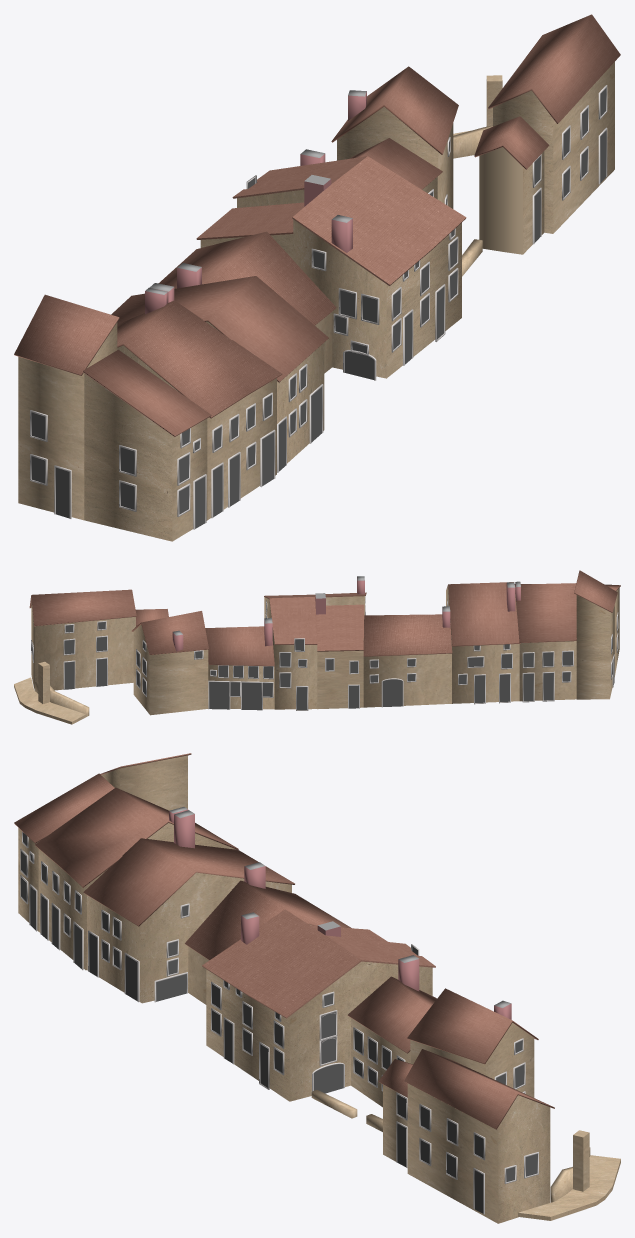
Rendered from ilot25combine.fbx.
3 views of the same model, one above another, from view 1: azimuth 30°, elevation 25°; view 2: azimuth 150°, elevation 25°; view 3: azimuth 270°, elevation 25° (orthographic). The views are drawn at different scales.
Parts seen in each view (by area): view 1: _ILOT25BAT52, _ILOT25BAT32, _ILOT25BAT8, _ILOT25BAT92, _ILOT25BAT26, _ILOT25BAT7, _ILOT25BAT110, _ILOT25BAT132, _ILOT25BAT62, _ILOT25BAT142, _ILOT25BAT102, MUR1; view 2: _ILOT25BAT92, _ILOT25BAT7, _ILOT25BAT62, _ILOT25BAT110, _ILOT25BAT8, _ILOT25BAT52, _ILOT25BAT102, _ILOT25BAT142, _ILOT25BAT26, MUR1, _ILOT25BAT32, _ILOT25BAT132; view 3: _ILOT25BAT52, _ILOT25BAT7, _ILOT25BAT92, _ILOT25BAT8, _ILOT25BAT110, _ILOT25BAT102, _ILOT25BAT62, _ILOT25BAT32, MUR1, _ILOT25BAT26, _ILOT25BAT132, _ILOT25BAT142.
Part boxes in pixels (box(x1,y1,x2,y2)): _ILOT25BAT52: box(232, 156, 466, 380); _ILOT25BAT32: box(83, 349, 211, 541); _ILOT25BAT8: box(117, 288, 282, 520); _ILOT25BAT92: box(488, 14, 620, 233); _ILOT25BAT26: box(14, 294, 119, 520); _ILOT25BAT7: box(111, 276, 328, 472); _ILOT25BAT110: box(331, 66, 458, 208); _ILOT25BAT132: box(474, 116, 549, 254); _ILOT25BAT62: box(158, 231, 336, 373); _ILOT25BAT142: box(196, 175, 331, 259); _ILOT25BAT102: box(300, 138, 442, 199); MUR1: box(453, 75, 502, 158); _ILOT25BAT92: box(29, 589, 136, 690); _ILOT25BAT7: box(446, 582, 520, 704); _ILOT25BAT62: box(363, 606, 452, 707); _ILOT25BAT110: box(131, 611, 208, 715); _ILOT25BAT8: box(514, 581, 576, 702); _ILOT25BAT52: box(264, 576, 366, 710); _ILOT25BAT102: box(205, 618, 274, 710); _ILOT25BAT142: box(315, 593, 364, 709); _ILOT25BAT26: box(574, 570, 617, 699); MUR1: box(14, 661, 89, 724); _ILOT25BAT32: box(605, 584, 620, 676); _ILOT25BAT132: box(135, 609, 168, 626); _ILOT25BAT52: box(202, 909, 435, 1101); _ILOT25BAT7: box(83, 810, 294, 1003); _ILOT25BAT92: box(404, 1049, 554, 1223); _ILOT25BAT8: box(35, 787, 238, 970); _ILOT25BAT110: box(407, 988, 538, 1097); _ILOT25BAT102: box(347, 955, 436, 1107); _ILOT25BAT62: box(185, 862, 351, 1004); _ILOT25BAT32: box(14, 773, 114, 931); MUR1: box(518, 1130, 620, 1220); _ILOT25BAT26: box(100, 753, 191, 810); _ILOT25BAT132: box(378, 1059, 412, 1167); _ILOT25BAT142: box(310, 921, 387, 941).
Size of the model in its own units: 10.77 by 2.46 by 8.35.
